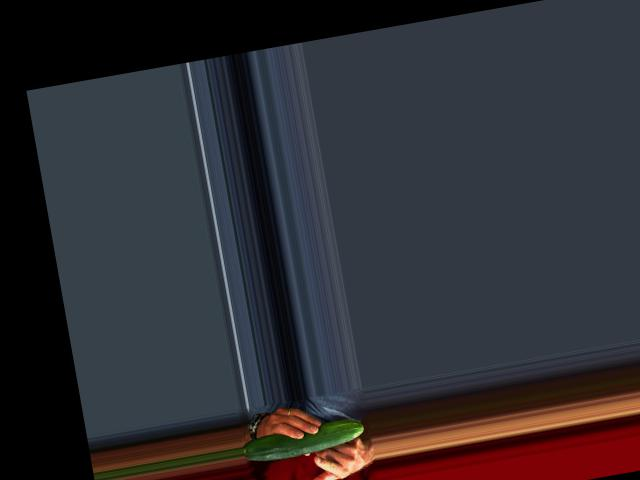cucumber: (240, 415, 366, 465)
